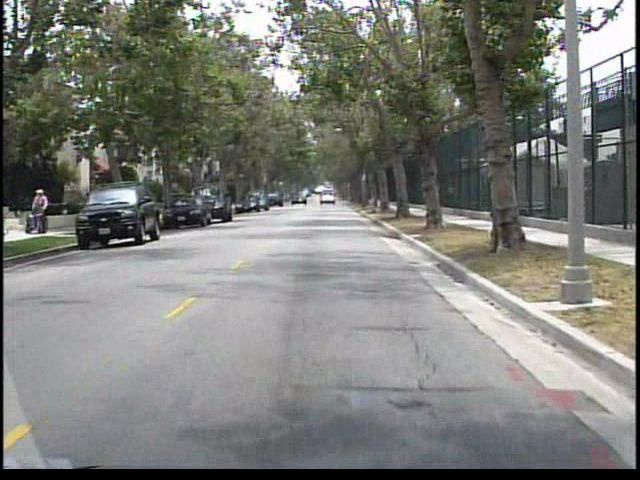person: (33, 187, 53, 235)
